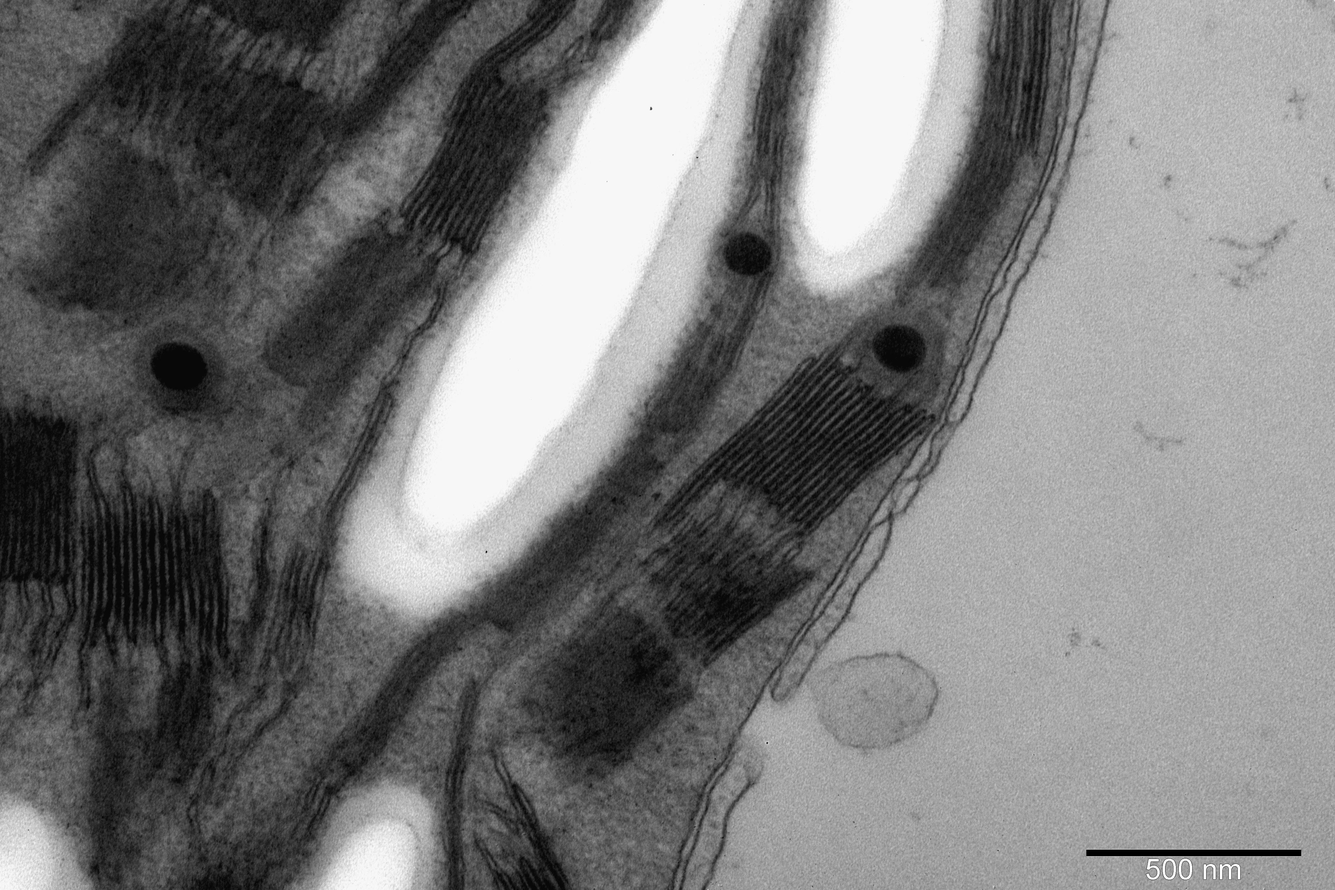granum: (650, 349, 941, 540), (898, 0, 1061, 298), (393, 0, 578, 260), (87, 53, 352, 225), (260, 211, 447, 439), (473, 434, 671, 633), (27, 145, 208, 321), (531, 590, 692, 779), (324, 605, 475, 784), (78, 481, 237, 646), (637, 274, 777, 443), (662, 534, 815, 672), (341, 0, 470, 139), (740, 0, 818, 189), (1, 412, 83, 589), (264, 538, 334, 702), (86, 680, 137, 883), (155, 655, 216, 775), (214, 0, 351, 53), (588, 0, 636, 42)
